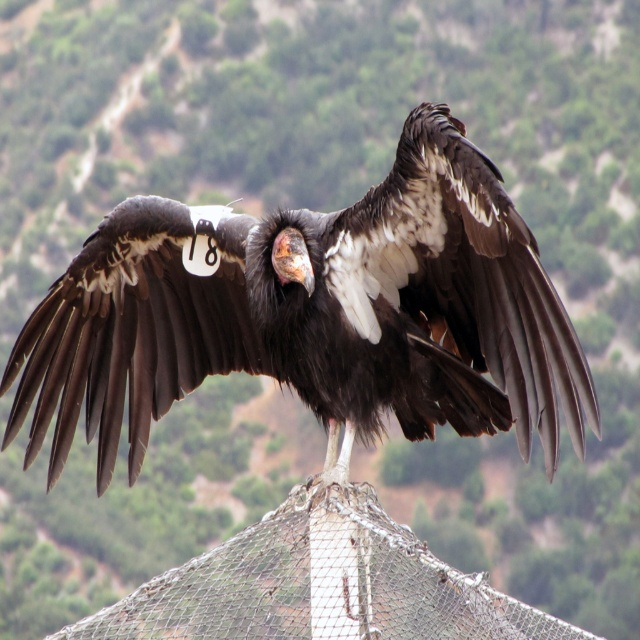Eagle: (0, 99, 606, 505)
